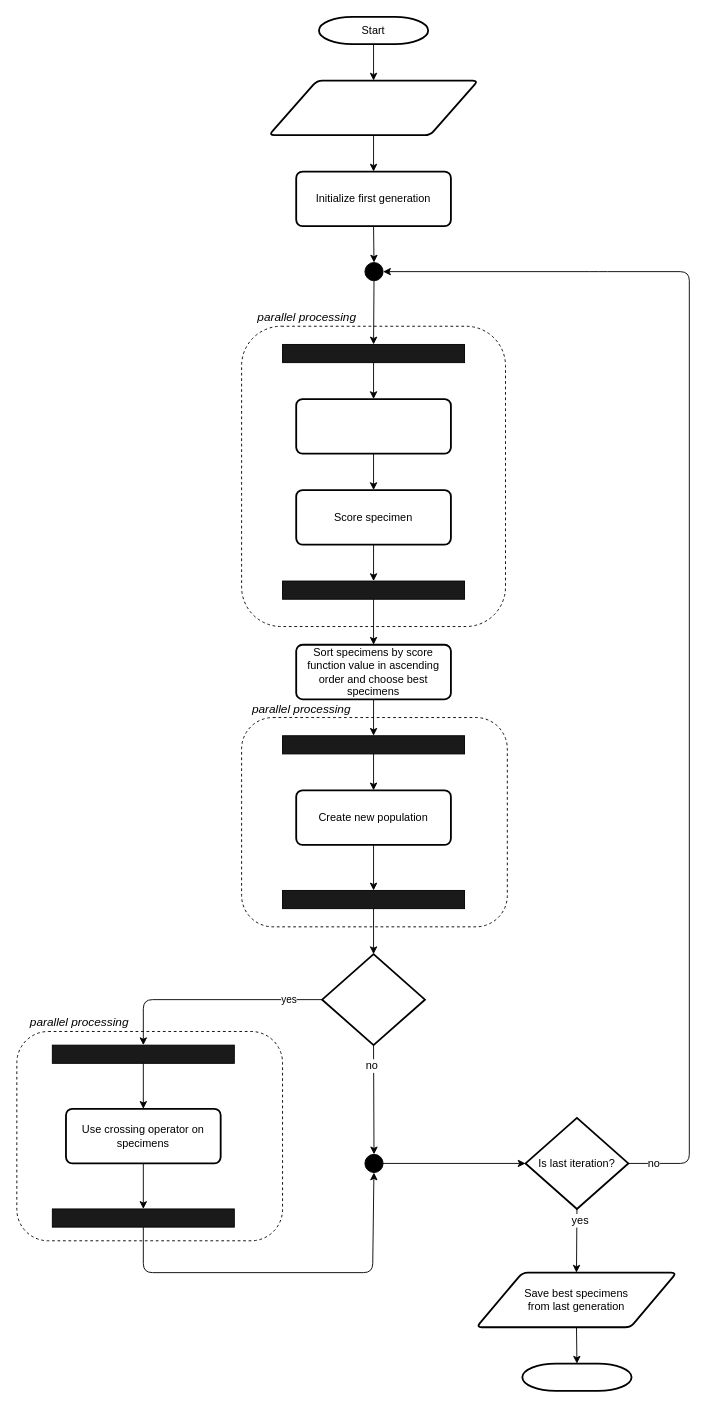
Image size: 713x1407. Some labels were removed from this diagram. The box of each missing label's shape, as (x1, y1, x2, y2) in pixels:
Is crossing operator enabled?: (321, 953, 425, 1046)
Read file with original picture and parameters: (268, 79, 479, 136)
Stop: (521, 1362, 632, 1391)
Use mutaton operator on specimen: (295, 398, 451, 454)
